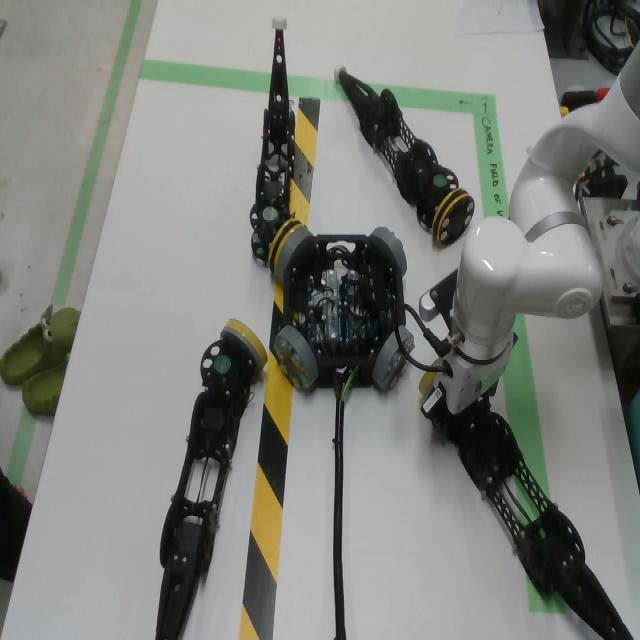body: (284, 235, 406, 388)
body_connector: (272, 325, 319, 391), (372, 332, 407, 395), (276, 227, 315, 280), (369, 227, 407, 276), (399, 325, 415, 355)
gripper: (422, 343, 513, 440)
leg: (432, 395, 635, 640), (155, 319, 268, 640), (333, 63, 475, 245), (249, 15, 305, 273), (418, 372, 436, 397), (428, 359, 443, 371)
leg_connector: (220, 319, 268, 373), (433, 188, 475, 247), (268, 219, 304, 273), (418, 359, 443, 400)
leg_marker: (214, 355, 231, 373), (263, 207, 278, 221), (433, 175, 447, 187)
